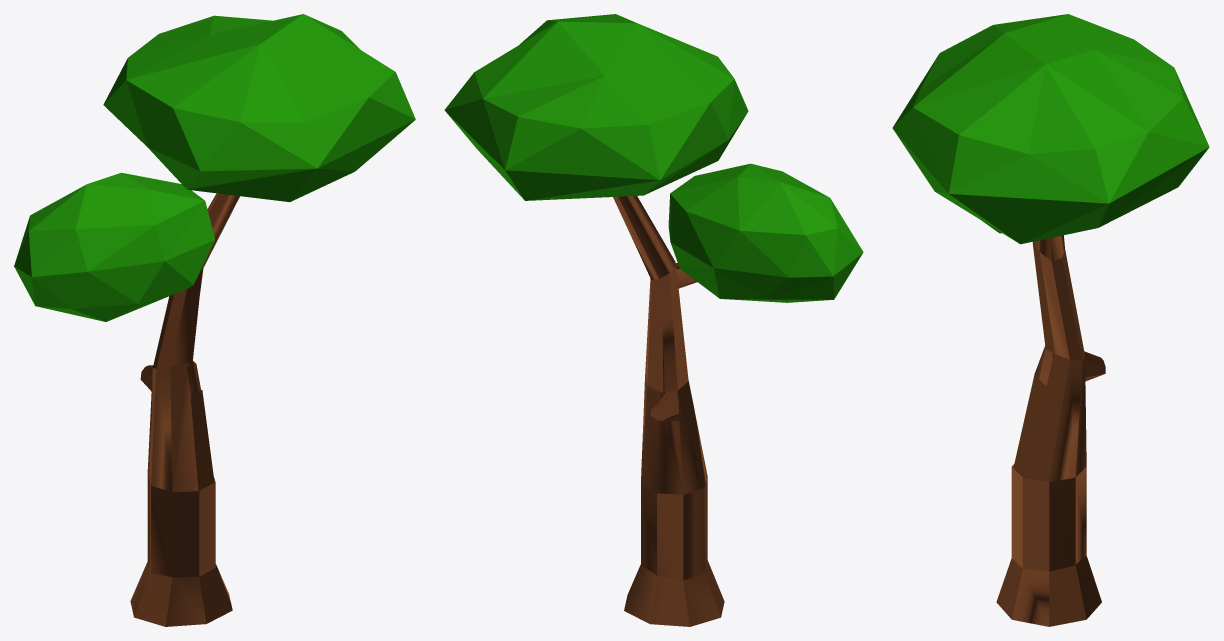
File: drvo2v2.fbx
The picture shows the model from 3 angles, left to right: view 1: azimuth 30°, elevation 25°; view 2: azimuth 150°, elevation 25°; view 3: azimuth 270°, elevation 25°; orthographic projection. The views are drawn at different scales.
Visible parts, largest first — view 1: Sphere_1, Sphere, tree_1; view 2: Sphere_1, tree_1, Sphere; view 3: Sphere_1, tree_1.
Boxes of the visible parts, x1,y1,x2,y2 form: Sphere_1: (103, 14, 415, 202); Sphere: (14, 172, 215, 321); tree_1: (130, 193, 239, 626); Sphere_1: (444, 14, 748, 200); tree_1: (613, 196, 724, 626); Sphere: (668, 163, 863, 302); Sphere_1: (892, 14, 1209, 244); tree_1: (996, 235, 1105, 626).
Size of the model in its own units: 617 by 883 by 423.
